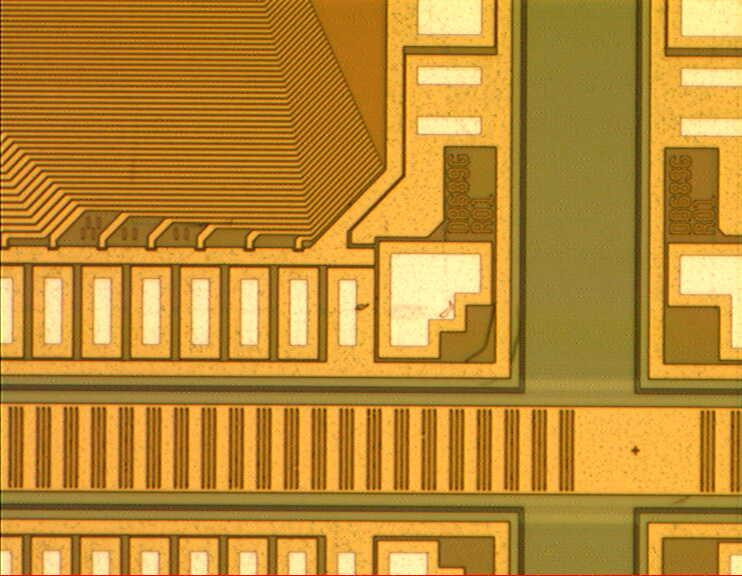PIQ PARTICLE: (351, 297, 461, 326)
